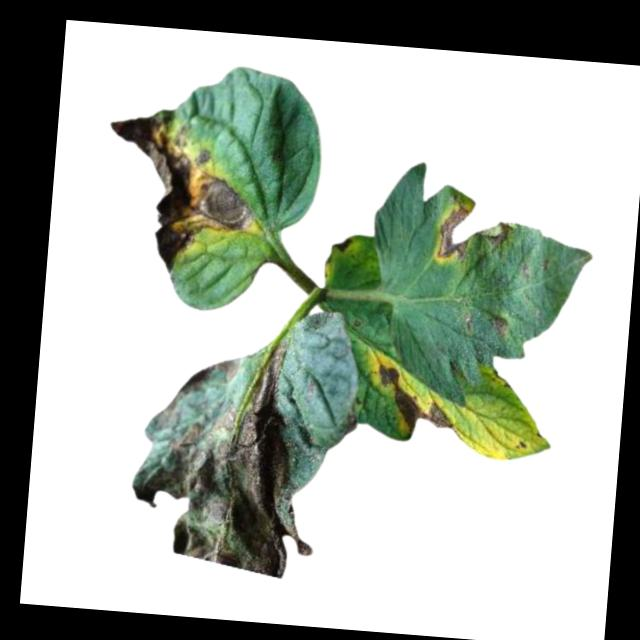Early_blight: (124, 330, 329, 581), (98, 102, 264, 279), (371, 364, 459, 442), (434, 201, 514, 269), (489, 308, 512, 334), (330, 237, 356, 252), (345, 405, 358, 433)
